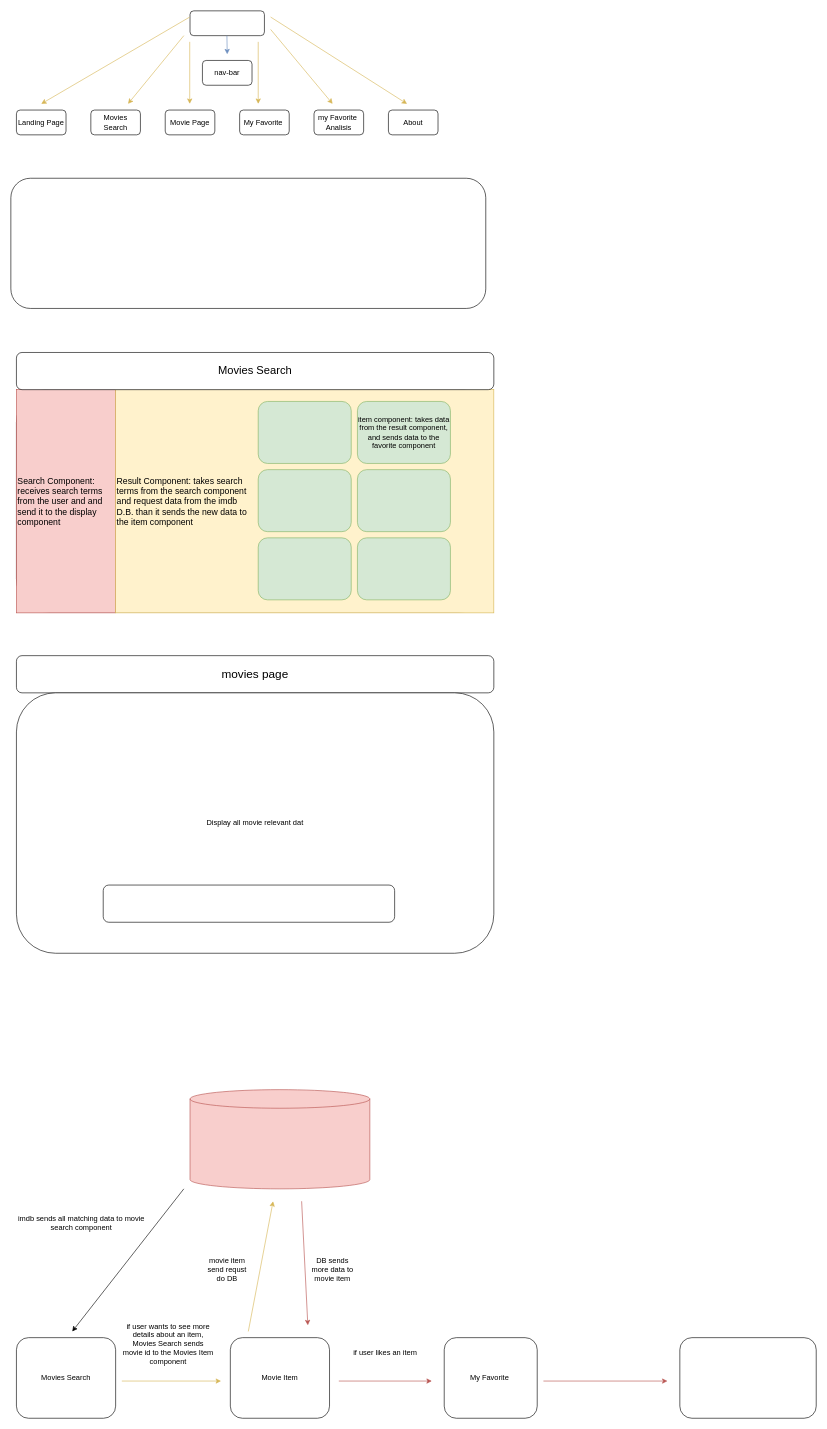
The diagram is 827 pixels wide and 1429 high, and some of its shapes have lost their labels. Each missing label, with the box of its shape:
Analize data and display with canvas: (679, 1337, 816, 1418)
App: (189, 10, 264, 36)
Imdb DataBase: (189, 1089, 370, 1189)
Landing Page: Static page: does not send or receives data from other components: (10, 178, 486, 308)
Like button: Sends the specific movie id to myFavorite: (103, 884, 395, 922)
